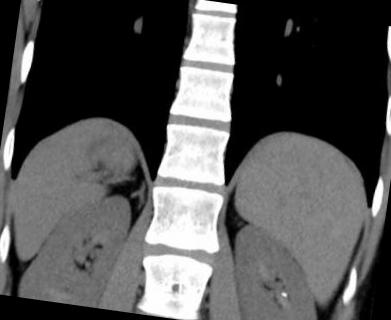Tas_Var: (278, 288, 291, 300)
